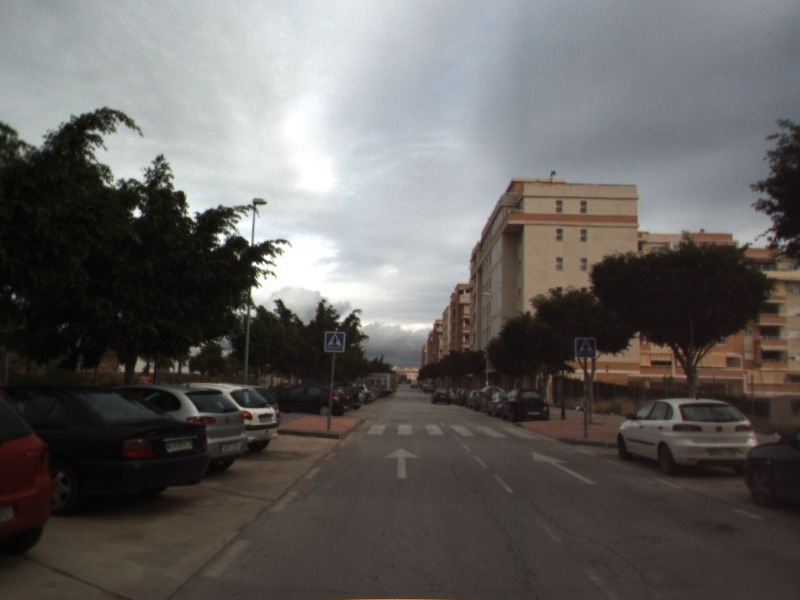STRAIGHT: (531, 450, 599, 486), (384, 446, 420, 480)
